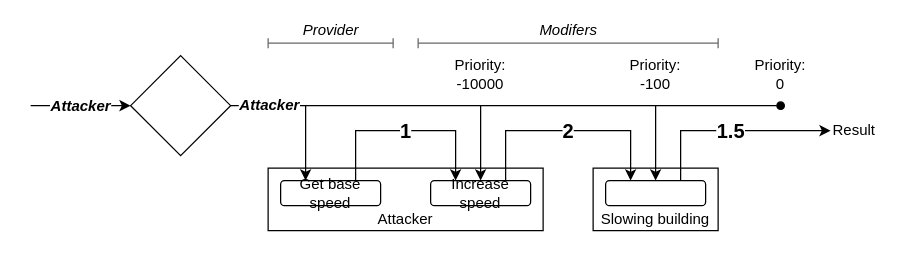
This 903x253 diagram has some shape labels left out. Here are the shapes that lost their labels. From the top down, the centre of each, then its label:
At point (180, 105): "Speed query".
At point (655, 192): "Slow down".
